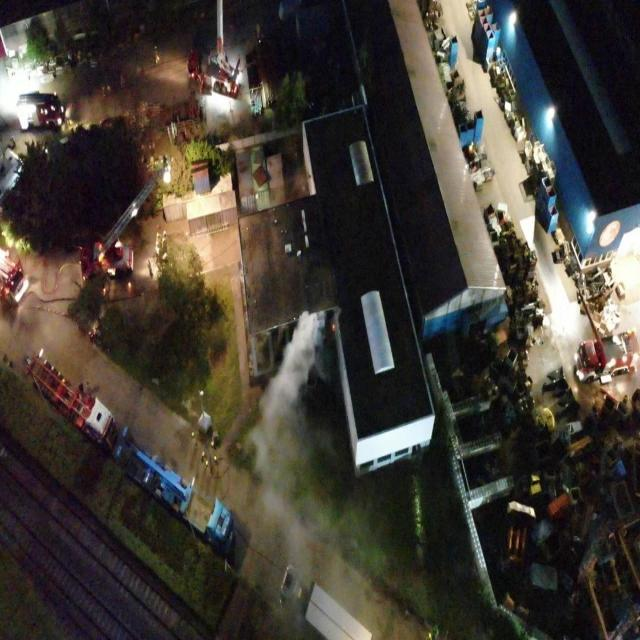Fire: (332, 323, 335, 332)
Smoke: (243, 306, 381, 616)
